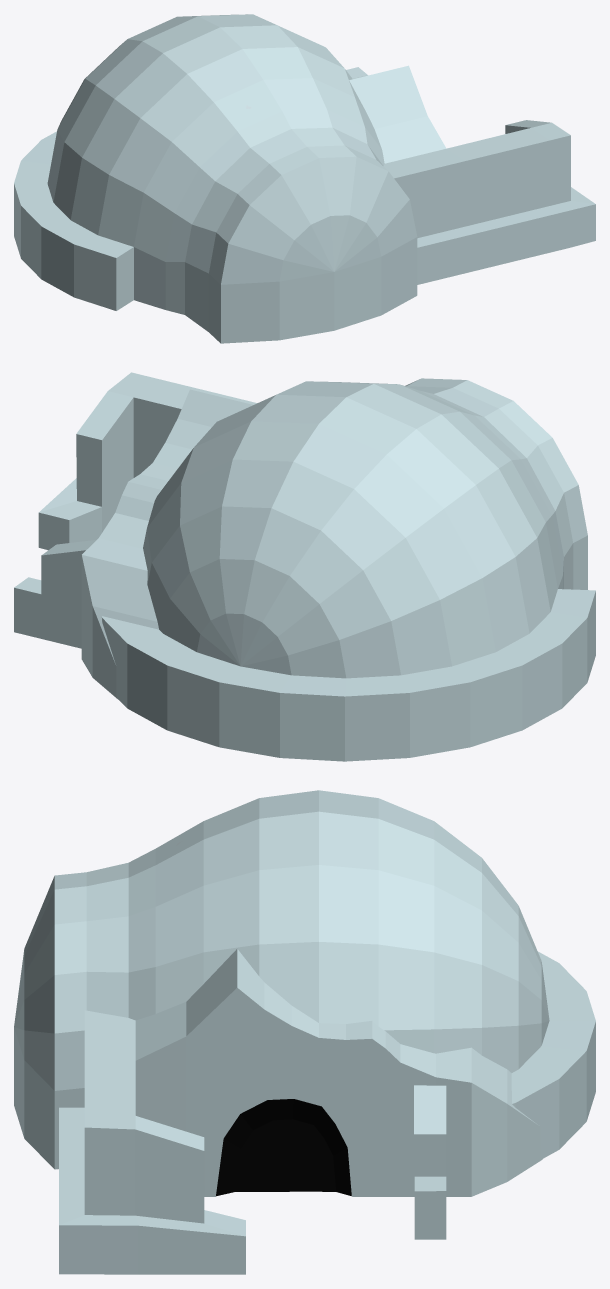
The model's file is iglu1.glb.
3 views of the same model, one above another, from view 1: azimuth 30°, elevation 25°; view 2: azimuth 150°, elevation 25°; view 3: azimuth 270°, elevation 25° (orthographic). The views are drawn at different scales.
Parts seen in each view (by area): view 1: Cube; view 2: Cube; view 3: Cube.
Boxes of the visible parts, x1,y1,x2,y2 form: Cube: (14,14,595,343); Cube: (14,372,595,761); Cube: (14,790,595,1274).
Bounding box in the file's own units: 5.9 × 2.72 × 4.88.
2 materials, 2 textured.
